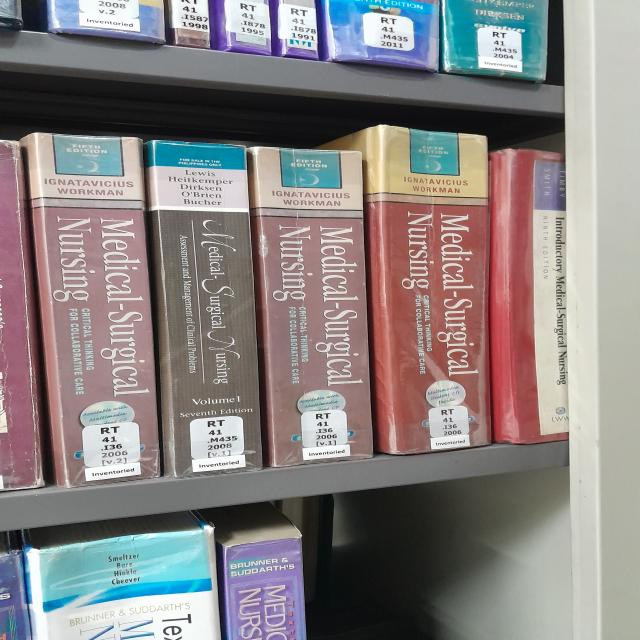book: (325, 125, 490, 454), (20, 133, 159, 485), (249, 148, 373, 467), (146, 141, 262, 477), (490, 149, 569, 443), (0, 141, 45, 490)
